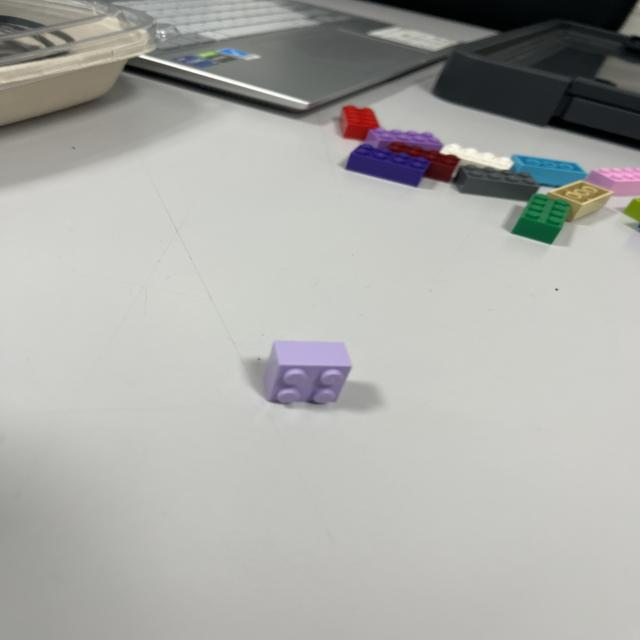C2x2x1: (256, 338, 360, 406)
